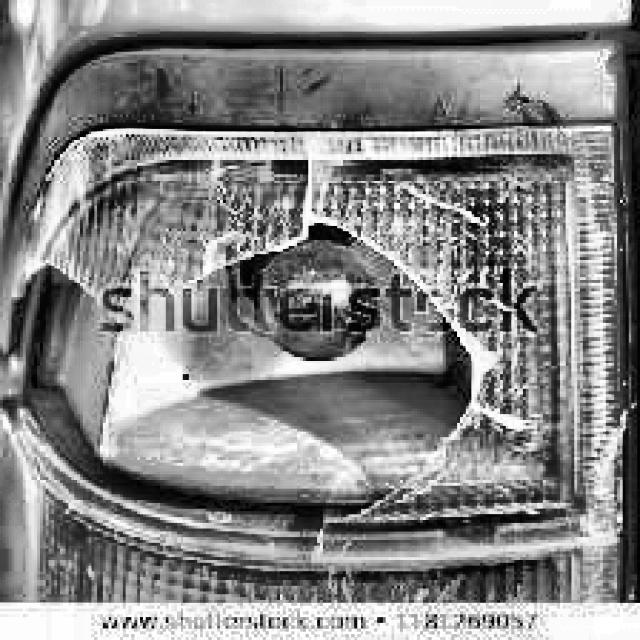tail_lamp: (16, 258, 472, 496)
